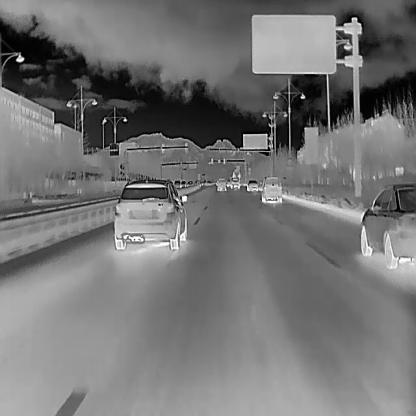car: (113, 178, 186, 249), (360, 183, 416, 268), (260, 174, 282, 204), (246, 177, 258, 192), (216, 177, 226, 191), (229, 176, 240, 188), (173, 178, 181, 188), (180, 179, 187, 187), (186, 178, 193, 186)
truck: (232, 167, 240, 179)
